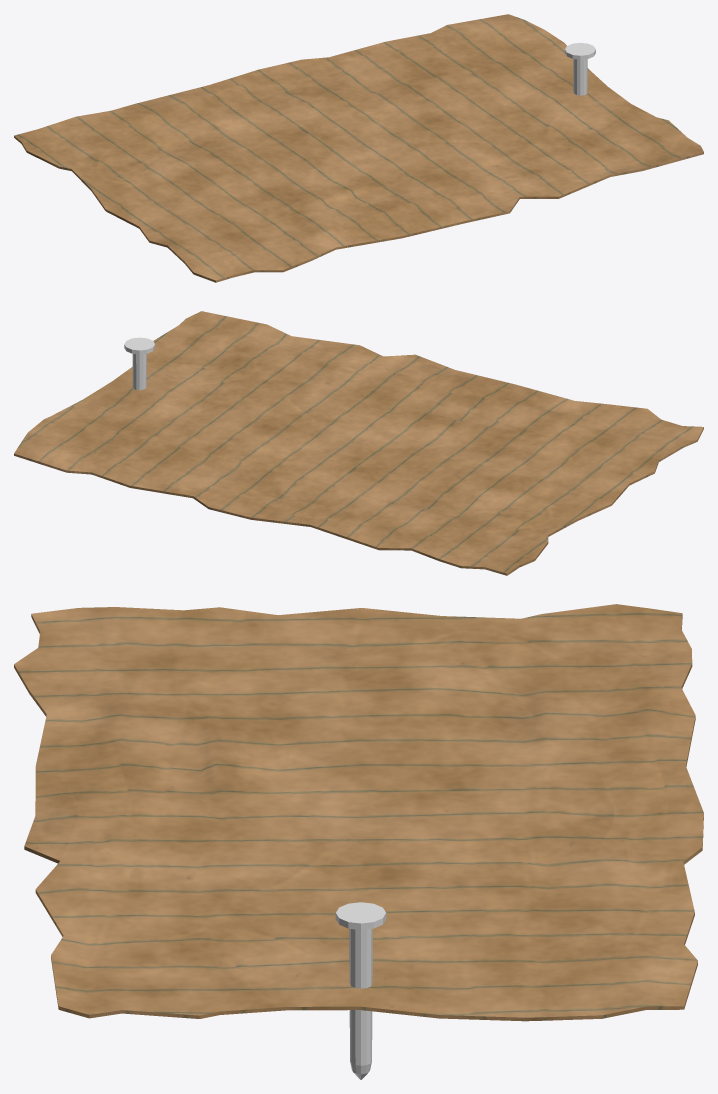
Rendered from note.fbx.
3 views of the same model, one above another, from view 1: azimuth 30°, elevation 25°; view 2: azimuth 150°, elevation 25°; view 3: azimuth 270°, elevation 25° (orthographic). The views are drawn at different scales.
Parts seen in each view (by area): view 1: Page, Nail; view 2: Page, Nail; view 3: Page, Nail.
Boxes of the visible parts, bbox=[...] form: Page: bbox=[14, 14, 703, 282]; Nail: bbox=[565, 42, 595, 95]; Page: bbox=[14, 311, 703, 575]; Nail: bbox=[124, 337, 154, 390]; Page: bbox=[14, 604, 703, 1021]; Nail: bbox=[335, 902, 386, 1079].
Size of the model in its own units: 80.76 by 15.3 by 57.43.
